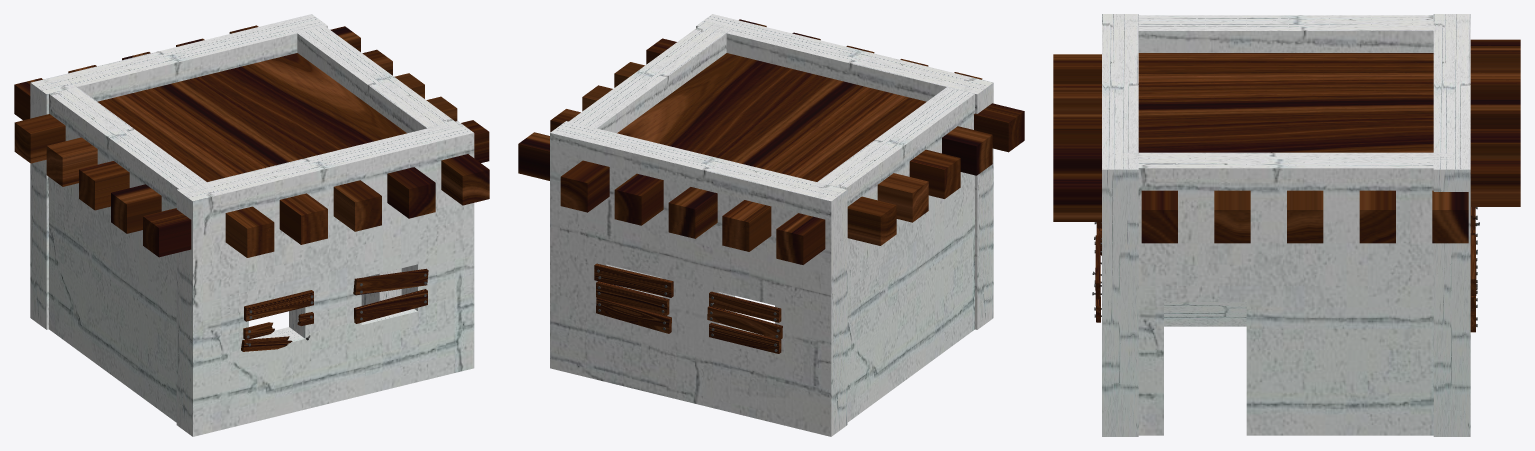
The model's file is House_S_2.fbx.
The picture shows the model from 3 angles, left to right: view 1: azimuth 30°, elevation 25°; view 2: azimuth 150°, elevation 25°; view 3: azimuth 270°, elevation 25°; orthographic projection. The views are drawn at different scales.
Parts seen in each view (by area): view 1: pCube1, pCube5, pCube3, pCube2, pCube4, pCube20, pCube19, pCube15, pCube18; view 2: pCube2, pCube5, pCube3, pCube1, pCube4, pCube12, pCube13, pCube14, pCube10, pCube9, pCube11; view 3: pCube4, pCube5, pCube1, pCube2, pCube3, pCube6.
Part boxes in pixels (x1,y1,x2,y2): pCube1: (176, 121, 474, 436); pCube5: (14, 25, 489, 257); pCube3: (47, 80, 213, 422); pCube2: (30, 14, 327, 329); pCube4: (289, 22, 461, 305); pCube20: (353, 268, 428, 295); pCube19: (354, 289, 427, 323); pCube15: (244, 290, 313, 321); pCube18: (241, 336, 292, 351); pCube2: (550, 121, 847, 436); pCube5: (518, 19, 1024, 264); pCube3: (808, 87, 974, 422); pCube1: (696, 14, 993, 329); pCube4: (566, 21, 733, 297); pCube12: (594, 263, 673, 297); pCube13: (596, 281, 669, 315); pCube14: (596, 298, 671, 333); pCube10: (707, 306, 782, 339); pCube9: (709, 291, 781, 322); pCube11: (709, 322, 781, 353); pCube4: (1122, 152, 1453, 435); pCube5: (1053, 39, 1520, 243); pCube1: (1102, 14, 1138, 436); pCube2: (1433, 14, 1470, 436); pCube3: (1122, 15, 1453, 52); pCube6: (1164, 302, 1246, 326).
Size of the model in its own units: 12.31 by 8.02 by 12.68.
